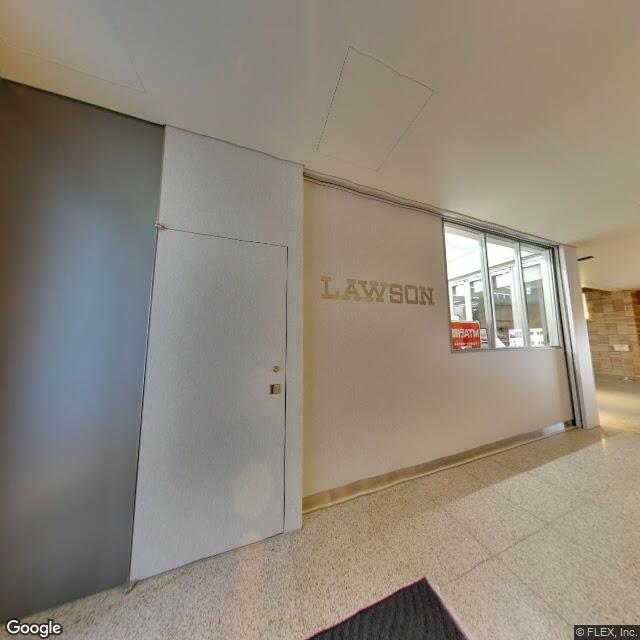lawson: (313, 264, 433, 316)
